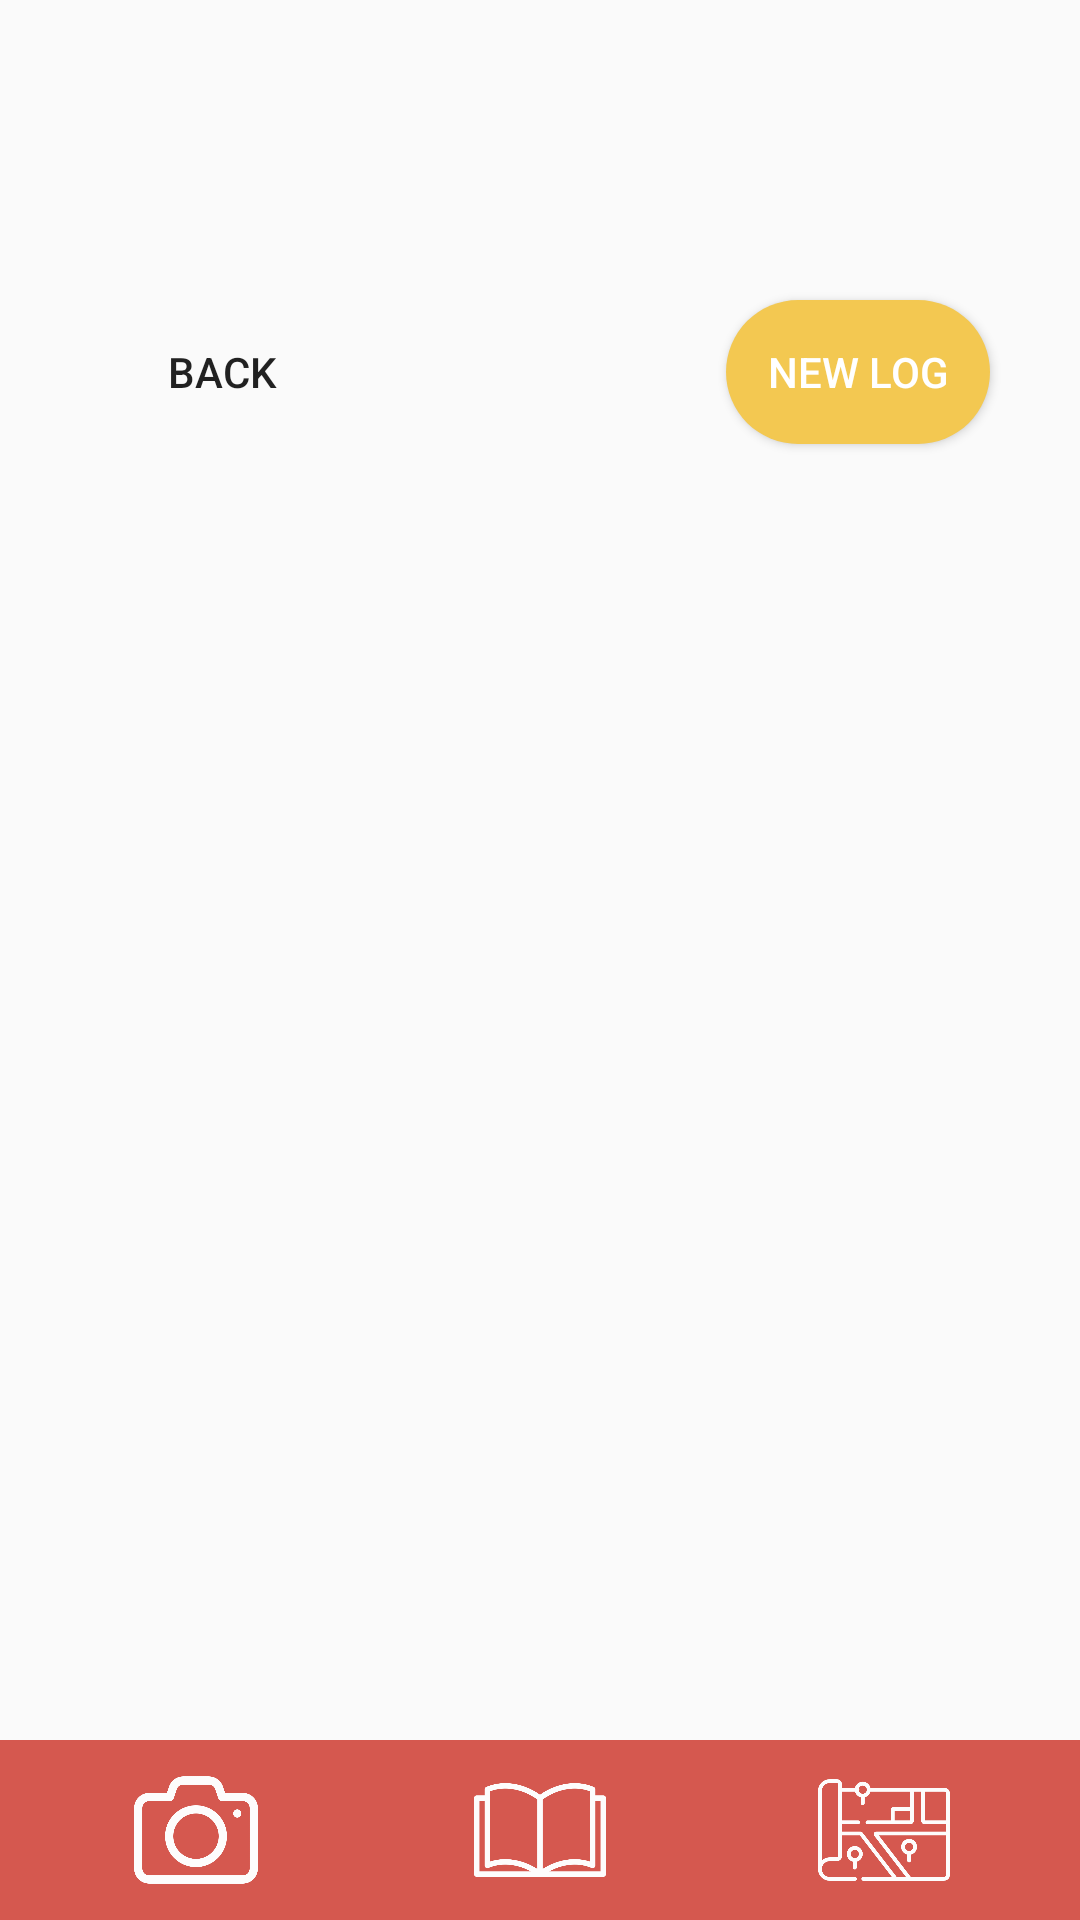

Screen size 1080x1920. Icon name, then its center in pixels as (x=x, y=y):
camera: (x=196, y=1830)
journal: (x=540, y=1830)
map: (x=884, y=1830)
